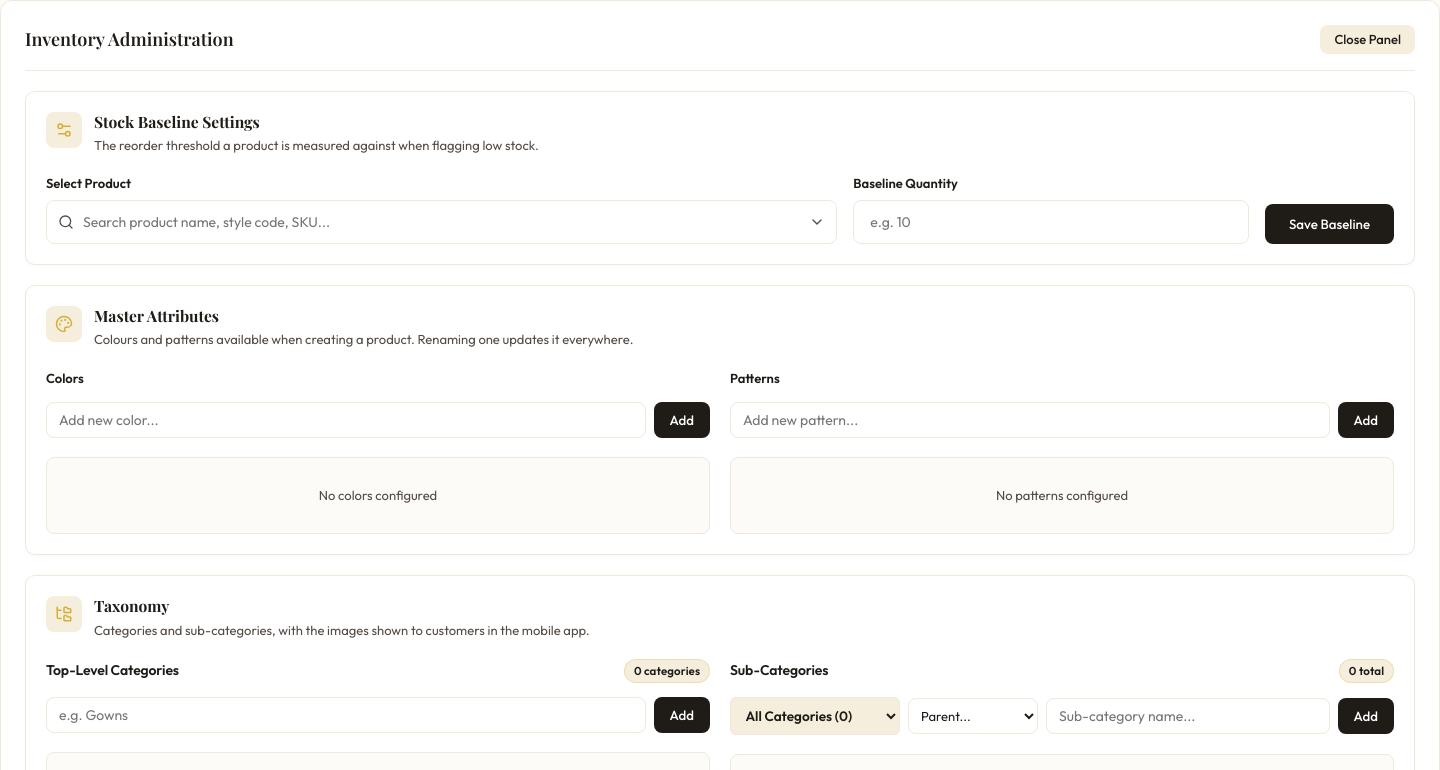
Test: AdminInventoryPanel › filters products by name or style code in combobox
Step 1. Type "BOT-202" into the dropdown labelled "Select Product" → (442, 222), box [46,200,837,244]
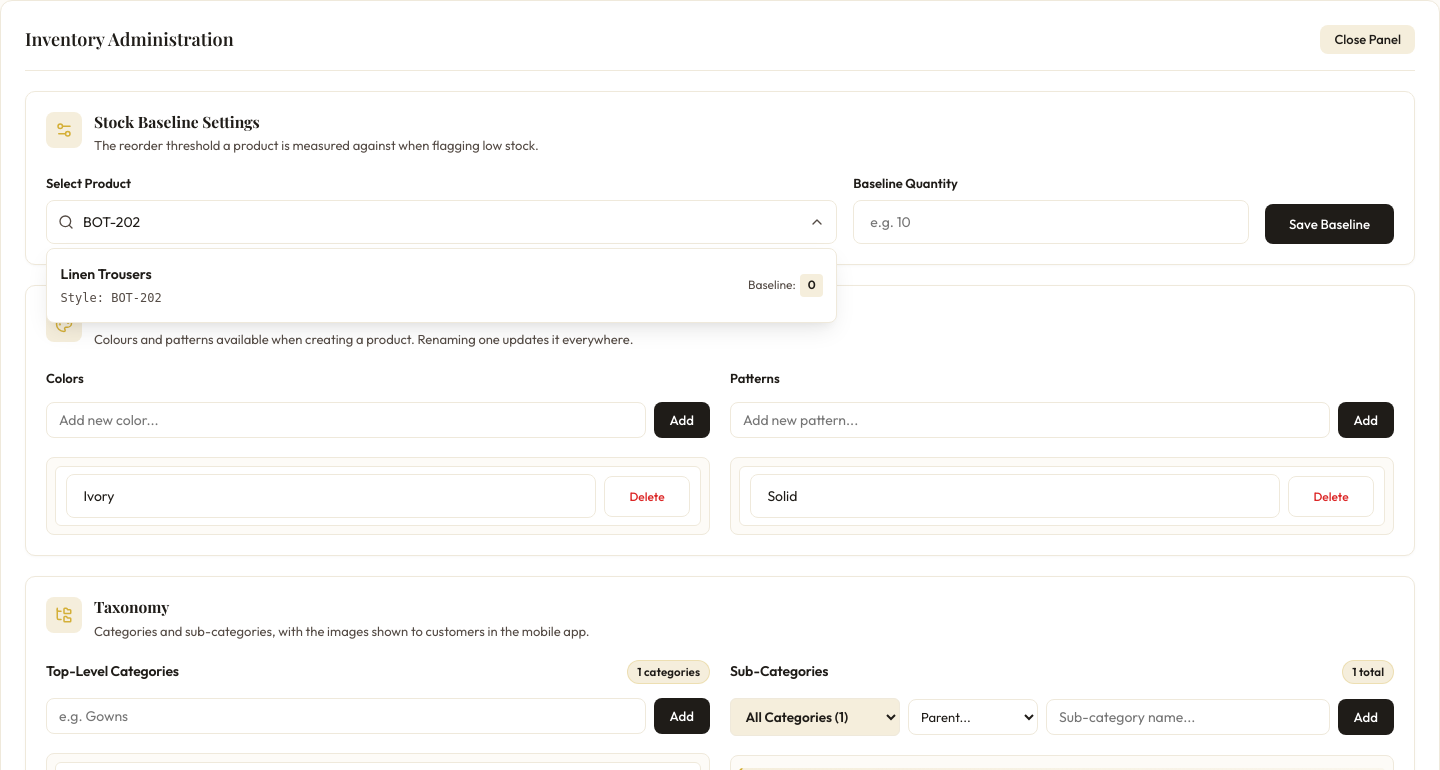
Expected: the option "Linen Trousers Style: BOT-202 Baseline: 0" is shown
# Select product with 0 baseline to verify 0 is preserved cleanly
Step 2. Click the option "Linen Trousers Style: BOT-202 Baseline: 0" → click(106, 274), box [47,255,836,316]
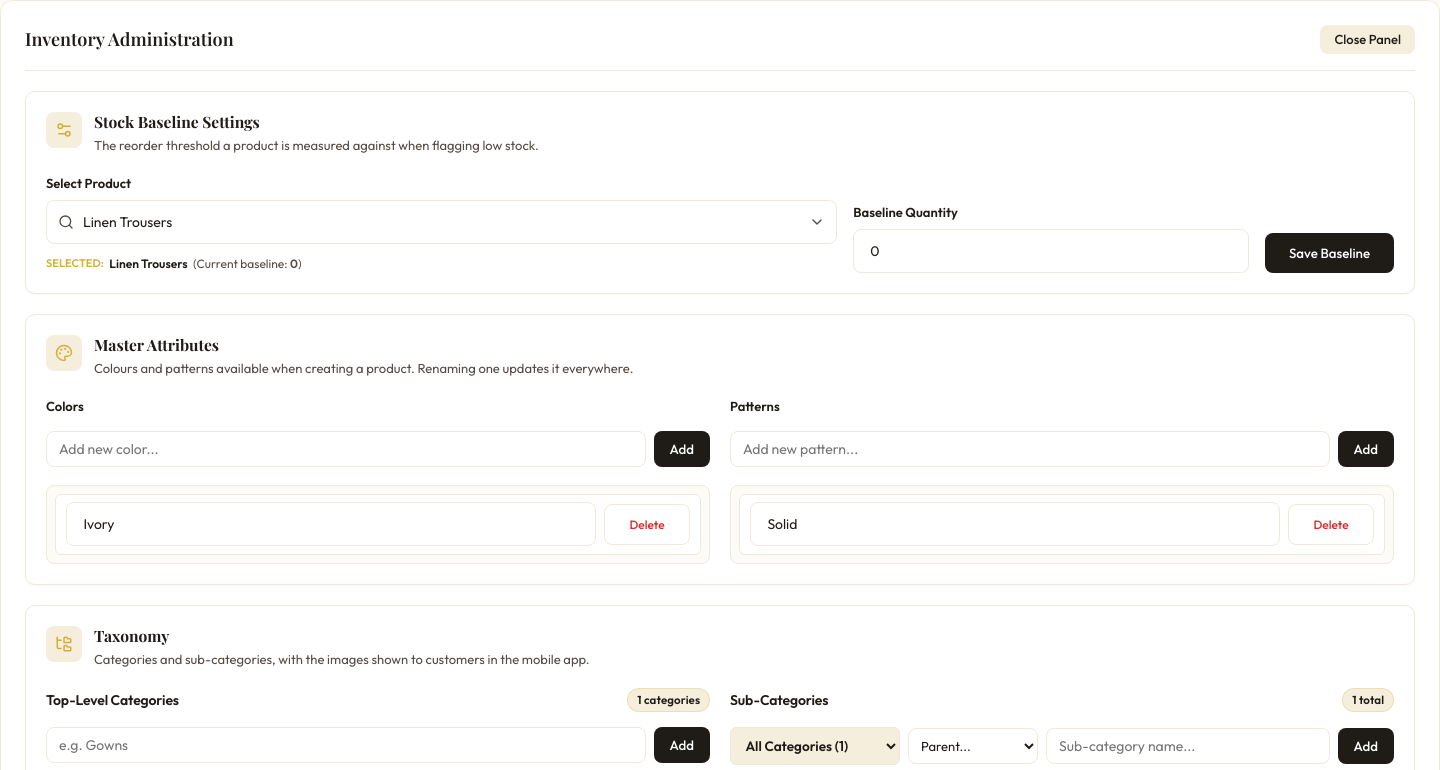
Expected: the number field labelled "Baseline Quantity" holds "0", [853,228,1249,272]
